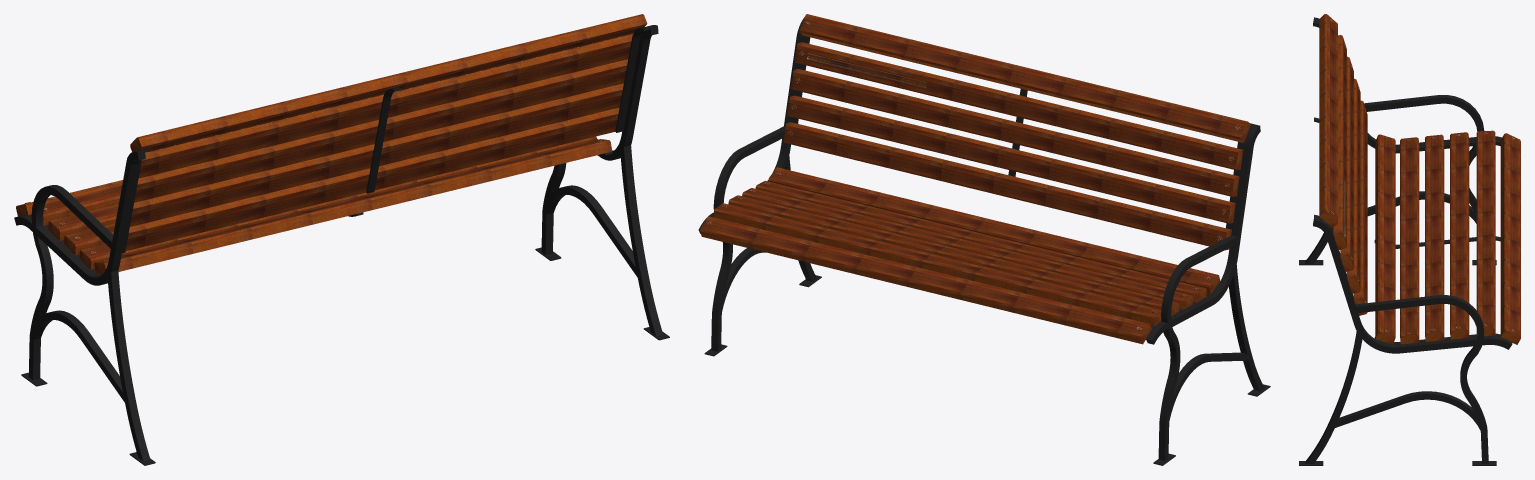
The picture shows the model from 3 angles, left to right: view 1: azimuth 30°, elevation 25°; view 2: azimuth 150°, elevation 25°; view 3: azimuth 270°, elevation 25°; orthographic projection. The views are drawn at different scales.
Parts seen in each view (by area): view 1: mesh35_mesh35-geometry, mesh20_mesh20-geometry, mesh22_mesh22-geometry, mesh18_mesh18-geometry, mesh3_mesh3-geometry, mesh7_mesh7-geometry, mesh15_mesh15-geometry, mesh30_mesh30-geometry, mesh5_mesh5-geometry, mesh10_mesh10-geometry, mesh32_mesh32-geometry; view 2: mesh35_mesh35-geometry, mesh20_mesh20-geometry, mesh22_mesh22-geometry, mesh5_mesh5-geometry, mesh18_mesh18-geometry, mesh30_mesh30-geometry, mesh7_mesh7-geometry, mesh37_mesh37-geometry; view 3: mesh35_mesh35-geometry, mesh7_mesh7-geometry, mesh5_mesh5-geometry, mesh20_mesh20-geometry, mesh15_mesh15-geometry, mesh3_mesh3-geometry, mesh22_mesh22-geometry, mesh30_mesh30-geometry, mesh18_mesh18-geometry.
Boxes of the visible parts, x1,y1,x2,y2 form: mesh35_mesh35-geometry: (16, 14, 647, 274); mesh20_mesh20-geometry: (28, 185, 113, 380); mesh22_mesh22-geometry: (14, 150, 145, 285); mesh18_mesh18-geometry: (107, 270, 150, 461); mesh3_mesh3-geometry: (620, 145, 662, 335); mesh7_mesh7-geometry: (597, 25, 658, 160); mesh15_mesh15-geometry: (546, 185, 637, 277); mesh30_mesh30-geometry: (34, 310, 124, 402); mesh5_mesh5-geometry: (541, 163, 566, 255); mesh10_mesh10-geometry: (615, 26, 650, 132); mesh32_mesh32-geometry: (366, 87, 401, 193); mesh35_mesh35-geometry: (700, 14, 1250, 344); mesh20_mesh20-geometry: (1158, 235, 1237, 460); mesh22_mesh22-geometry: (1146, 124, 1260, 344); mesh5_mesh5-geometry: (711, 126, 785, 351); mesh18_mesh18-geometry: (1229, 265, 1264, 391); mesh30_mesh30-geometry: (1169, 352, 1248, 420); mesh7_mesh7-geometry: (698, 17, 804, 233); mesh37_mesh37-geometry: (807, 53, 927, 88); mesh35_mesh35-geometry: (1319, 14, 1520, 344); mesh7_mesh7-geometry: (1313, 217, 1512, 353); mesh5_mesh5-geometry: (1355, 295, 1488, 463); mesh20_mesh20-geometry: (1364, 95, 1484, 216); mesh15_mesh15-geometry: (1335, 391, 1480, 430); mesh3_mesh3-geometry: (1305, 331, 1362, 463); mesh22_mesh22-geometry: (1313, 17, 1501, 153); mesh30_mesh30-geometry: (1367, 191, 1476, 223); mesh18_mesh18-geometry: (1305, 228, 1333, 263).
Size of the model in its own units: 0.8072 by 0.4606 by 0.3692.
